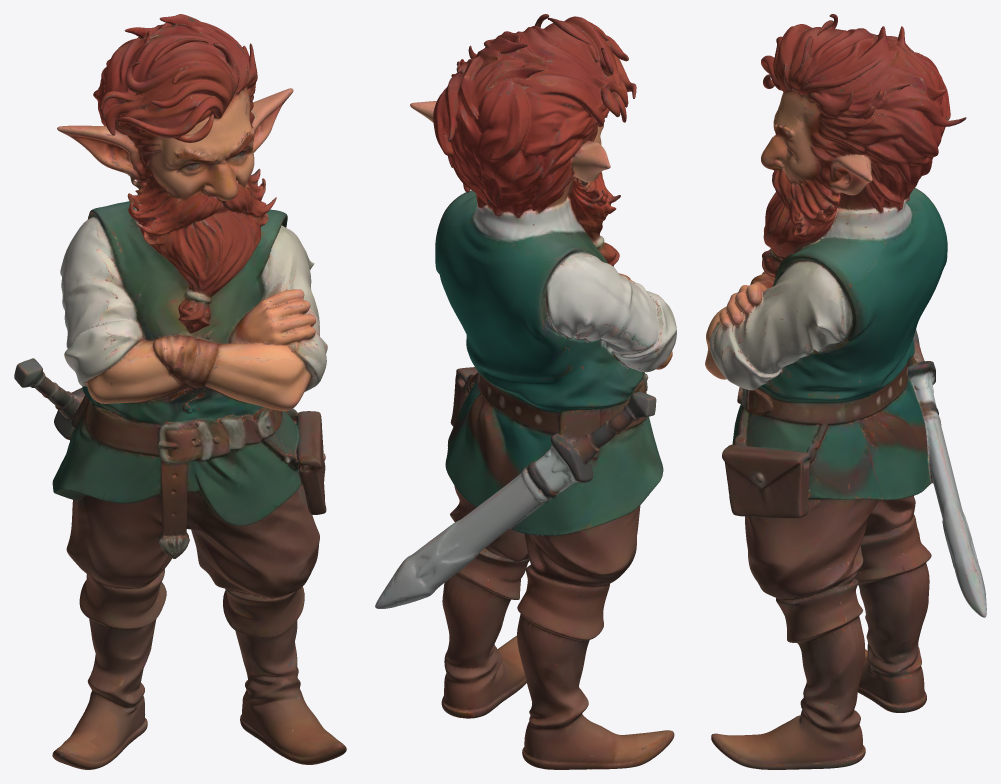
The model's file is halfling2.glb.
3 renders of one model, left to right at view 1: azimuth 30°, elevation 25°; view 2: azimuth 150°, elevation 25°; view 3: azimuth 270°, elevation 25°, orthographic. The views are drawn at different scales.
Size of the model in its own units: 0.7635 by 2 by 0.7371.
Materials: 1 (1 with a texture image).
